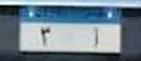3: (39, 26, 52, 48)
alif: (92, 25, 102, 49)
